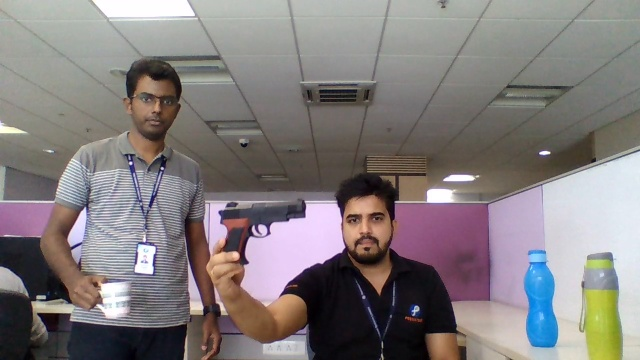gun: (217, 198, 307, 250)
